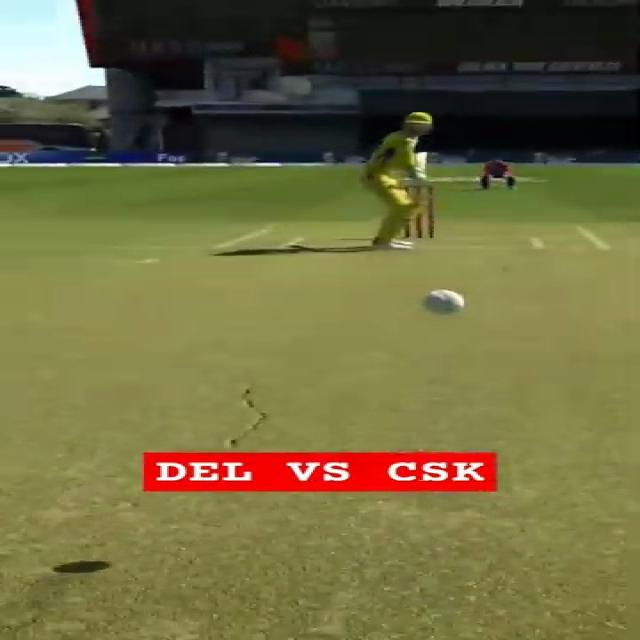ball: (414, 288, 468, 316)
